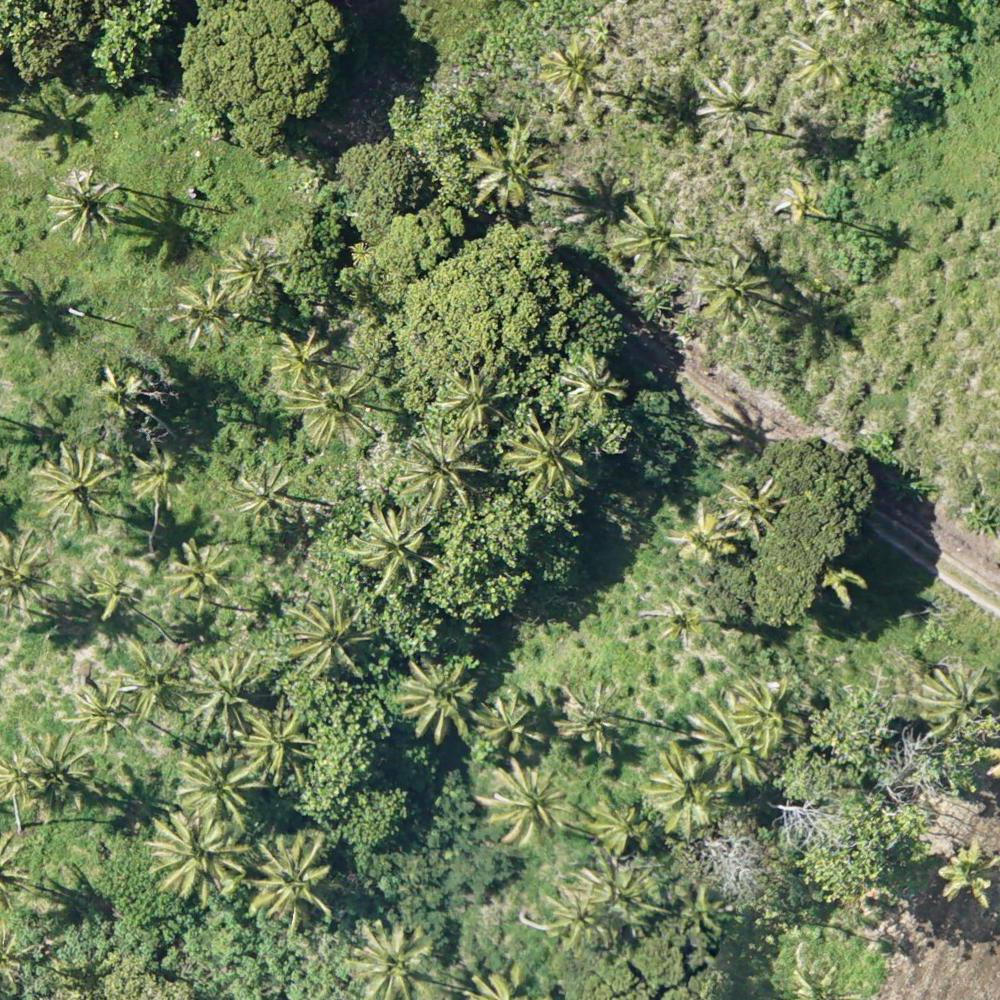Palm: (150, 811, 250, 901), (285, 589, 374, 686), (645, 746, 734, 836), (504, 410, 588, 505), (30, 444, 118, 531), (353, 505, 442, 591), (17, 727, 102, 816), (688, 696, 769, 788), (402, 421, 488, 507), (288, 371, 378, 452), (484, 758, 568, 844), (258, 836, 340, 924), (183, 656, 263, 743), (400, 662, 481, 745), (174, 748, 263, 823), (353, 921, 433, 1000), (466, 129, 542, 207), (616, 195, 690, 275), (242, 705, 316, 782), (590, 860, 669, 932), (918, 661, 996, 732), (696, 252, 771, 323), (696, 74, 765, 150), (732, 677, 806, 747), (47, 172, 123, 240), (436, 362, 514, 428), (164, 541, 237, 611), (66, 678, 137, 748), (545, 883, 613, 955), (557, 679, 629, 747), (539, 36, 606, 107), (123, 643, 189, 714), (233, 462, 299, 529), (268, 325, 336, 390), (563, 348, 631, 413), (1, 541, 61, 613), (481, 696, 546, 761), (664, 511, 737, 568), (719, 475, 788, 535), (587, 792, 656, 852), (220, 231, 285, 292), (786, 29, 853, 86), (174, 279, 233, 343), (941, 840, 1000, 904), (648, 595, 712, 648), (130, 452, 184, 508), (99, 365, 155, 418), (774, 175, 832, 223), (679, 879, 726, 934), (86, 568, 137, 617)
